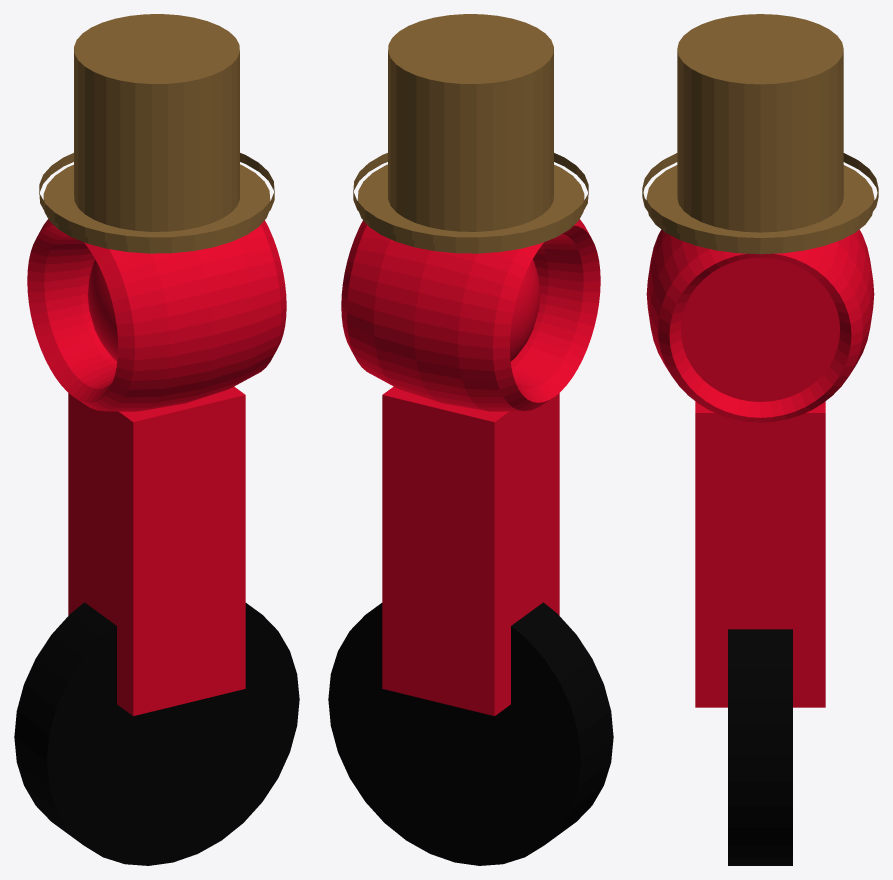
The model's file is heatseeker.fbx.
3 renders of one model, left to right at view 1: azimuth 30°, elevation 25°; view 2: azimuth 150°, elevation 25°; view 3: azimuth 270°, elevation 25°, orthographic.
Parts seen in each view (by area): view 1: Cylinder; view 2: Cylinder; view 3: Cylinder.
Boxes of the visible parts, x1=… form: Cylinder: x1=14, y1=14, x2=299, y2=865; Cylinder: x1=328, y1=14, x2=613, y2=865; Cylinder: x1=642, y1=14, x2=878, y2=865.
Size of the model in its own units: 90 by 273 by 72.67.
